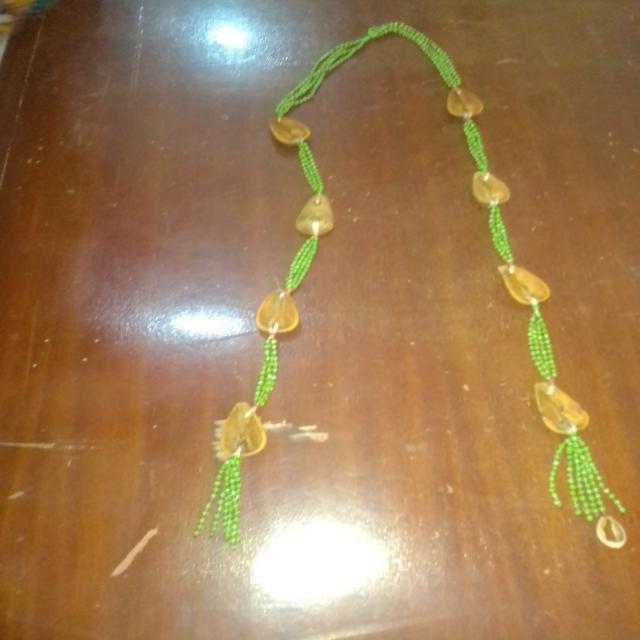facedown: (294, 186, 336, 238)
faceup: (211, 392, 270, 461), (527, 378, 594, 438), (253, 286, 303, 340), (496, 262, 553, 308), (468, 170, 515, 209), (265, 111, 312, 149), (442, 87, 487, 119)
